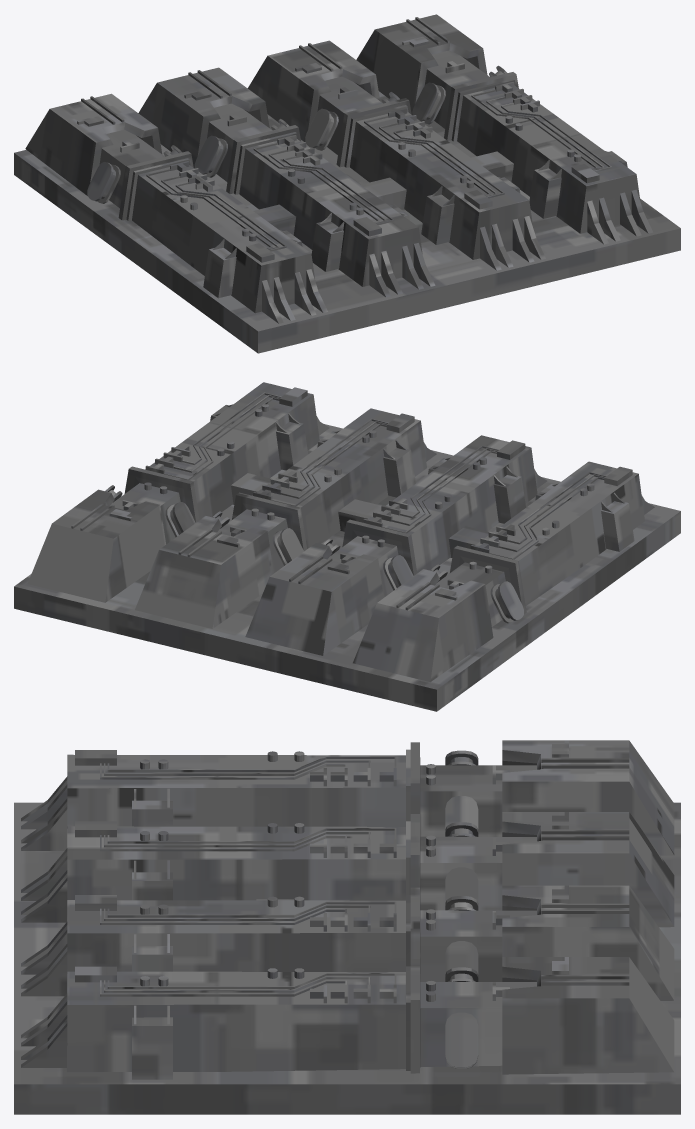
Rendered from block, tex.fbx.
3 renders of one model, top to bottom at view 1: azimuth 30°, elevation 25°; view 2: azimuth 150°, elevation 25°; view 3: azimuth 270°, elevation 25°, orthographic. The views are drawn at different scales.
Visible parts, largest first — view 1: block7; view 2: block7; view 3: block7.
Boxes of the visible parts, x1,y1,x2,y2 form: block7: [14, 14, 680, 353]; block7: [14, 382, 680, 711]; block7: [14, 740, 680, 1114].
Size of the model in its own units: 10.13 by 1.77 by 10.
